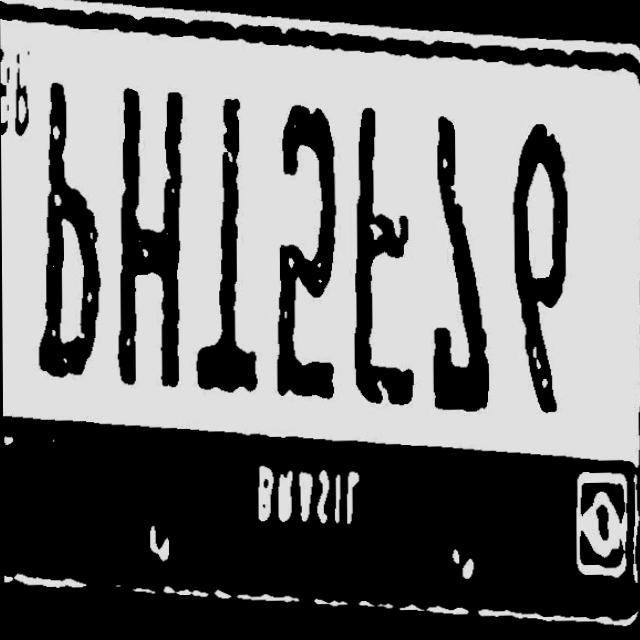5: (272, 88, 352, 409)
6: (504, 120, 592, 425)
7: (421, 114, 505, 422)
f: (343, 94, 415, 415)
h: (111, 82, 188, 398)
p: (25, 77, 112, 378)
t: (189, 95, 272, 410)
